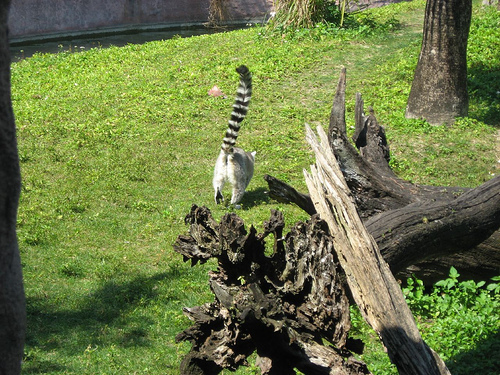cat: (209, 61, 259, 213)
